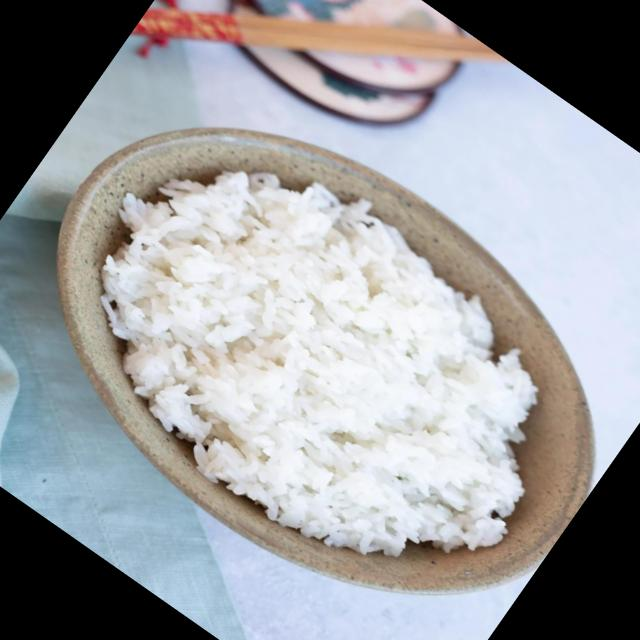rice: (93, 165, 540, 560)
